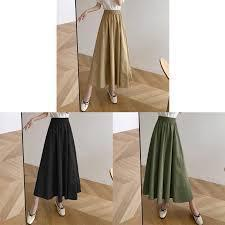skirt: (31, 114, 85, 207), (145, 115, 194, 208), (86, 5, 137, 91)
